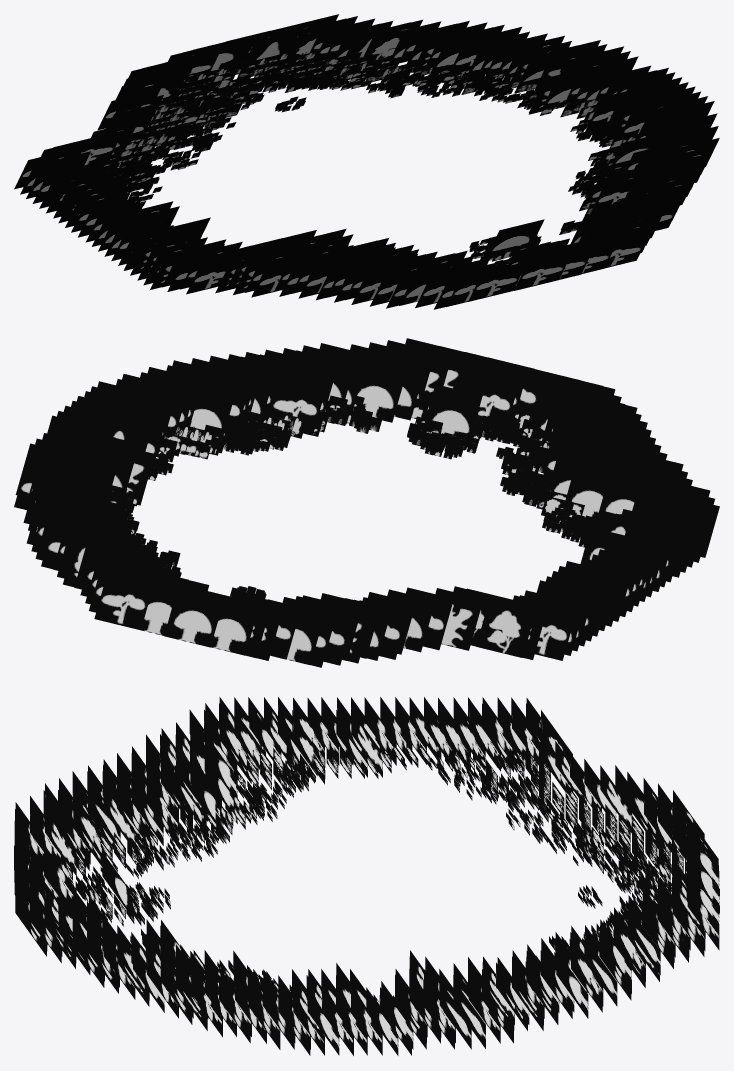
The model's file is tb_Fence_Plants_mat.fbx.
The picture shows the model from 3 angles, top to bottom: view 1: azimuth 30°, elevation 25°; view 2: azimuth 150°, elevation 25°; view 3: azimuth 270°, elevation 25°; orthographic projection. The views are drawn at different scales.
Visible parts, largest first — view 1: tb_Fence_Plants_mat; view 2: tb_Fence_Plants_mat; view 3: tb_Fence_Plants_mat.
Part boxes in pixels (x1,y1,x2,y2): tb_Fence_Plants_mat: (14, 14, 719, 309); tb_Fence_Plants_mat: (14, 338, 719, 667); tb_Fence_Plants_mat: (14, 697, 719, 1055).
Size of the model in its own units: 460 by 30.19 by 435.
